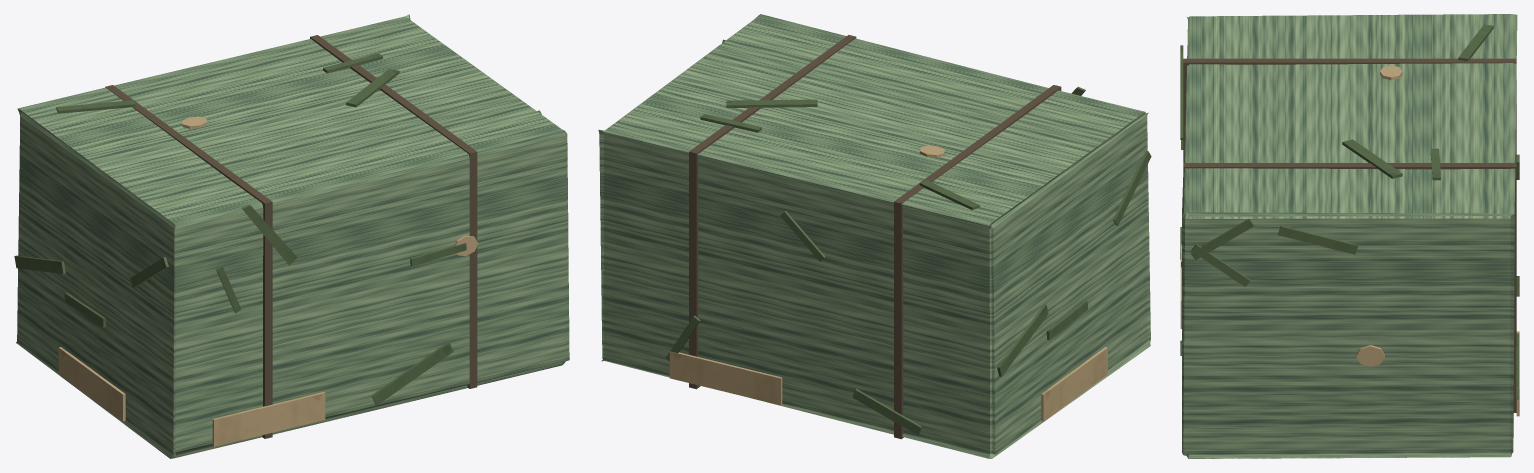
The model's file is bale_seagrass.glb.
3 views of the same model, side by side, from view 1: azimuth 30°, elevation 25°; view 2: azimuth 150°, elevation 25°; view 3: azimuth 270°, elevation 25° (orthographic). The views are drawn at different scales.
Parts seen in each view (by area): view 1: BaleSeagrass; view 2: BaleSeagrass; view 3: BaleSeagrass.
Boxes of the visible parts, left/top/right/bottom form: BaleSeagrass: left=14, top=14, right=569, bottom=458; BaleSeagrass: left=598, top=14, right=1151, bottom=458; BaleSeagrass: left=1180, top=14, right=1519, bottom=458.
Size of the model in its own units: 1.31 by 0.7484 by 0.9202.
4 materials, 3 textured.
